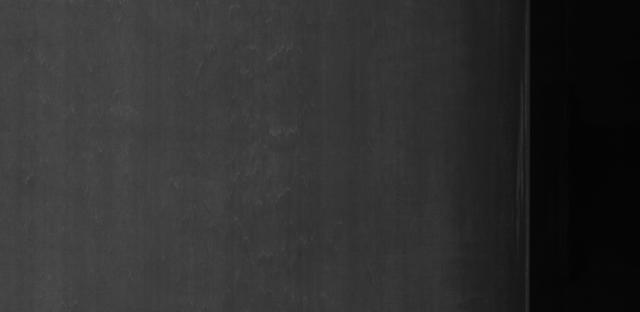silk_spot: (220, 40, 325, 237), (495, 82, 527, 202)
